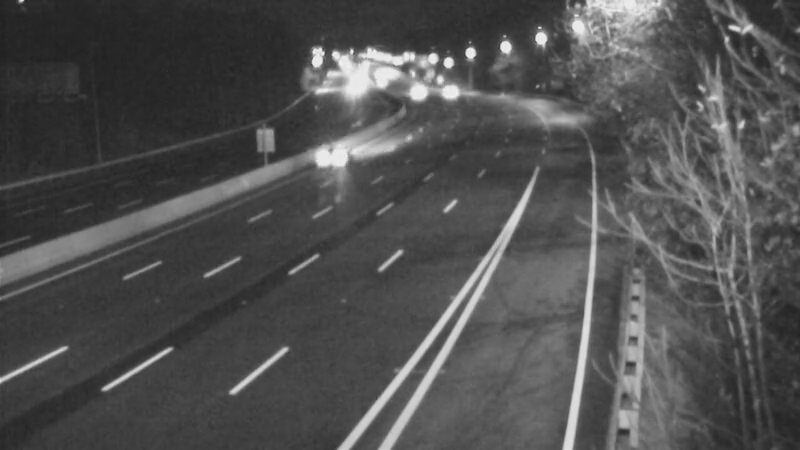vehicle: (297, 120, 377, 200), (429, 65, 479, 115), (390, 68, 440, 118)
